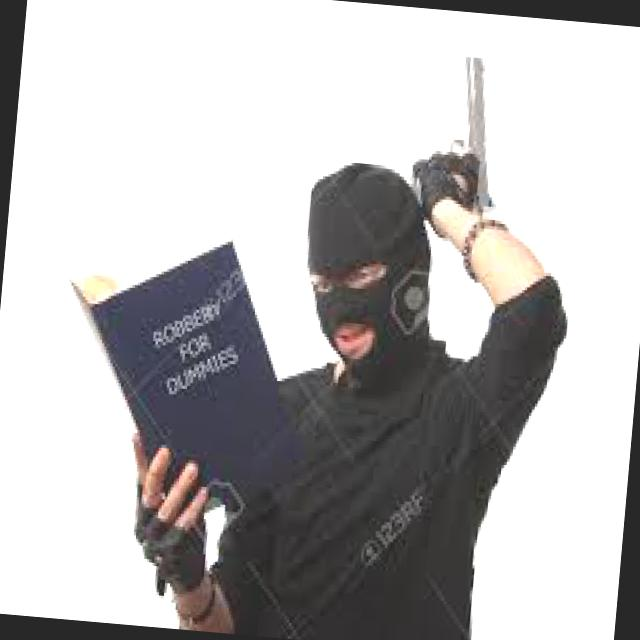handgun: (406, 42, 506, 226)
